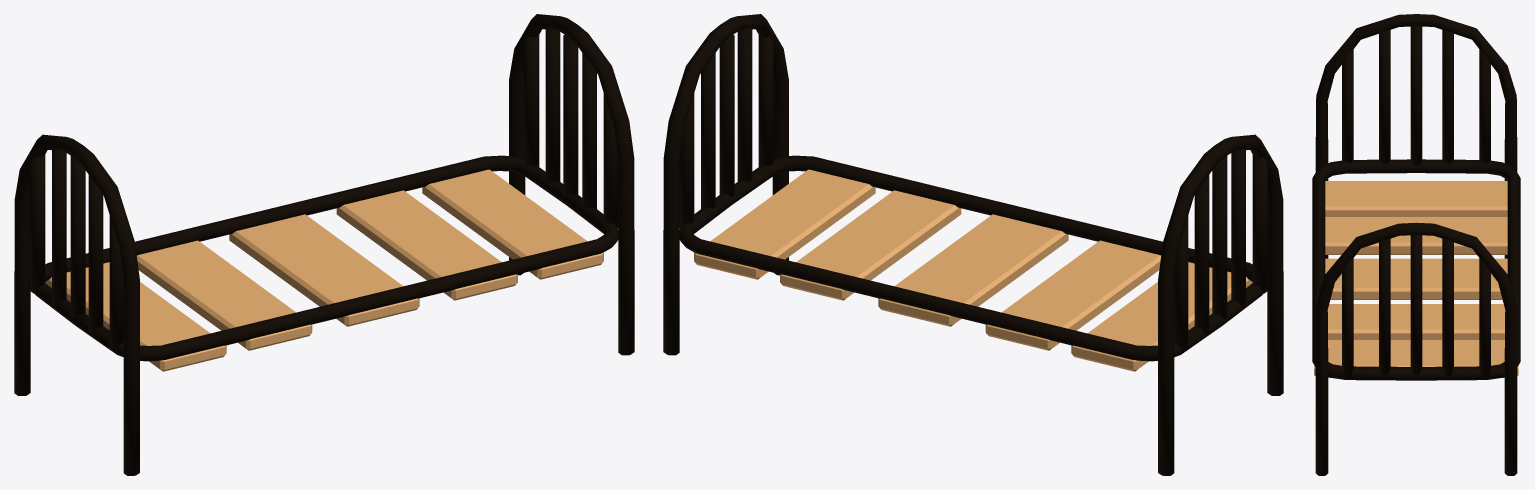
File: pelkka_sanky.fbx
The picture shows the model from 3 angles, left to right: view 1: azimuth 30°, elevation 25°; view 2: azimuth 150°, elevation 25°; view 3: azimuth 270°, elevation 25°; orthographic projection. The views are drawn at different scales.
Visible parts, largest first — view 1: sanky, laudat; view 2: sanky, laudat; view 3: sanky, laudat.
Part boxes in pixels (x1,y1,x2,y2): sanky: (14,14,634,475); laudat: (45,169,603,371); sanky: (663,14,1283,475); laudat: (694,169,1252,371); sanky: (1312,14,1520,475); laudat: (1314,181,1518,377).
Size of the model in its own units: 219 by 120 by 89.98.
